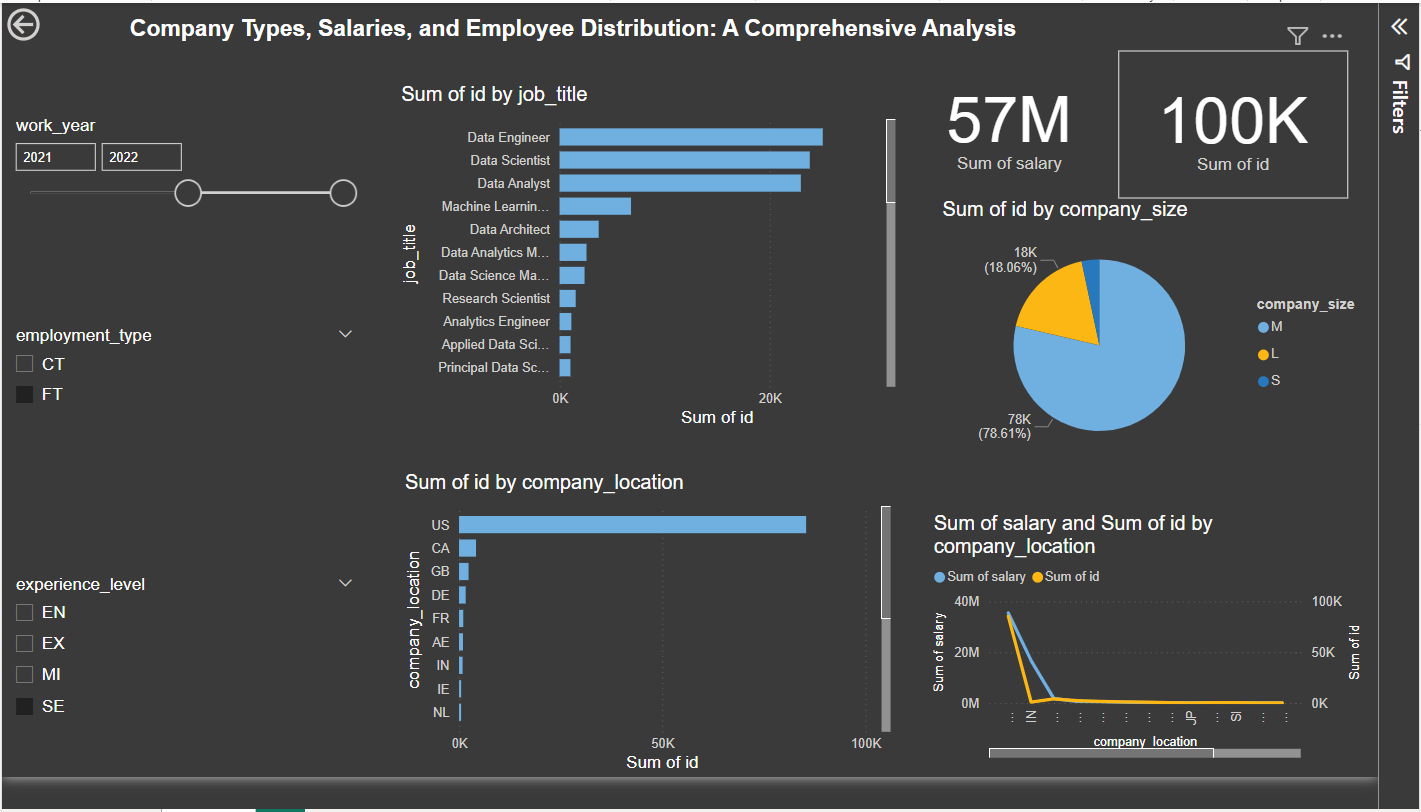

This screenshot's page, from the dashboard's own definition file:
{"tool":"powerbi","page":{"name":"Page 1","canvas":[1280,720],"ordinal":0},"visuals":[{"type":"card","fields":{"Values":["Sum(ds_salaries.salary)"]},"box":[836,48.8,202.3,126.7],"z":0},{"type":"pieChart","fields":{"Category":["ds_salaries.company_size"],"Y":["Sum(ds_salaries.id)"]},"box":[869.8,181.4,410.5,253.5],"z":1000},{"type":"slicer","fields":{"Values":["ds_salaries.work_year"]},"box":[0,100,338.4,151.2],"z":2000},{"type":"clusteredBarChart","fields":{"Category":["ds_salaries.job_title"],"Y":["Sum(ds_salaries.id)"]},"box":[366.3,74.4,469.8,324.4],"z":3000},{"type":"slicer","fields":{"Values":["ds_salaries.experience_level"]},"box":[0,526.7,338.4,180.2],"z":4000},{"type":"actionButton","box":[0,0,100,40],"z":5000},{"type":"slicer","fields":{"Values":["ds_salaries.employment_type"]},"box":[0,295.3,338.4,205.8],"z":6000},{"type":"barChart","fields":{"Category":["ds_salaries.company_location"],"Y":["Sum(ds_salaries.id)"]},"box":[369.8,434.9,461.6,284.9],"z":7000},{"type":"card","fields":{"Values":["Sum(ds_salaries.id)"]},"box":[1038.4,44.2,214,137.2],"z":8000},{"type":"lineChart","fields":{"Category":["ds_salaries.company_location"],"Y":["Sum(ds_salaries.salary)"],"Y2":["Sum(ds_salaries.id)"]},"box":[861.6,473.3,409.3,233.7],"z":8001},{"type":"textbox","box":[114,7,837.2,65.1],"z":8002}]}

Visuals, with their boxes on the page's 1280x720 design canvas (x1, y1, x2, y2). These are canvas units, not pixel positions in the 1421x812 screenshot, which may show the page scaled, cropped or inside an application window:
card - Sum(ds_salaries.salary): <bbox>836, 49, 1038, 176</bbox>
pieChart - ds_salaries.company_size x Sum(ds_salaries.id): <bbox>870, 181, 1280, 435</bbox>
slicer - ds_salaries.work_year: <bbox>0, 100, 338, 251</bbox>
clusteredBarChart - ds_salaries.job_title x Sum(ds_salaries.id): <bbox>366, 74, 836, 399</bbox>
slicer - ds_salaries.experience_level: <bbox>0, 527, 338, 707</bbox>
actionButton: <bbox>0, 0, 100, 40</bbox>
slicer - ds_salaries.employment_type: <bbox>0, 295, 338, 501</bbox>
barChart - ds_salaries.company_location x Sum(ds_salaries.id): <bbox>370, 435, 831, 720</bbox>
card - Sum(ds_salaries.id): <bbox>1038, 44, 1252, 181</bbox>
lineChart - ds_salaries.company_location x Sum(ds_salaries.salary): <bbox>862, 473, 1271, 707</bbox>
textbox: <bbox>114, 7, 951, 72</bbox>
